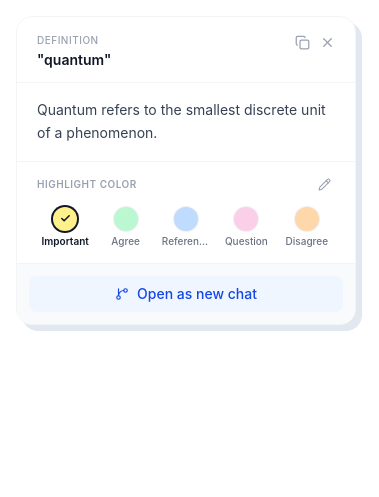
Test: FloatingPopup › Labels umbenennen (Slice 05, mockup-popup-edit-labels.html edit state) › Cancel verlässt den Edit-Modus ohne API-Aufruf
Check: the text "Important" is shown, box x1=41 y1=234 x2=89 y2=247
Click the button named "rename labels". click: point(324, 184)
box: x1=314 y1=174 x2=335 y2=194
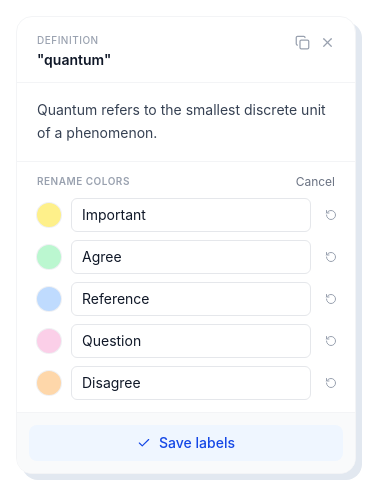
Check: the text "Rename colors" is shown, box x1=37 y1=174 x2=130 y2=189
Type "Weggeworfen" into the field named "label for blue". click: point(191, 298)
box: x1=71 y1=282 x2=311 y2=316
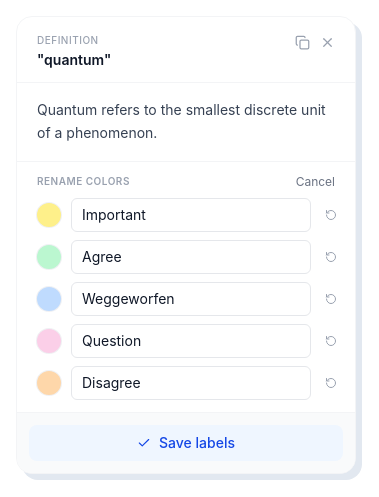
Click the button "Cancel". click: point(315, 182)
box: x1=296 y1=174 x2=335 y2=190
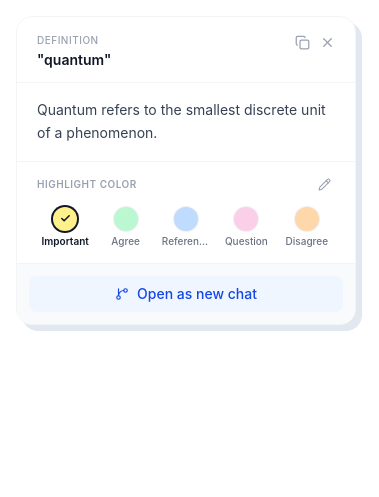
Check: the text "Highlight color" is shown, box x1=37 y1=176 x2=137 y2=192
